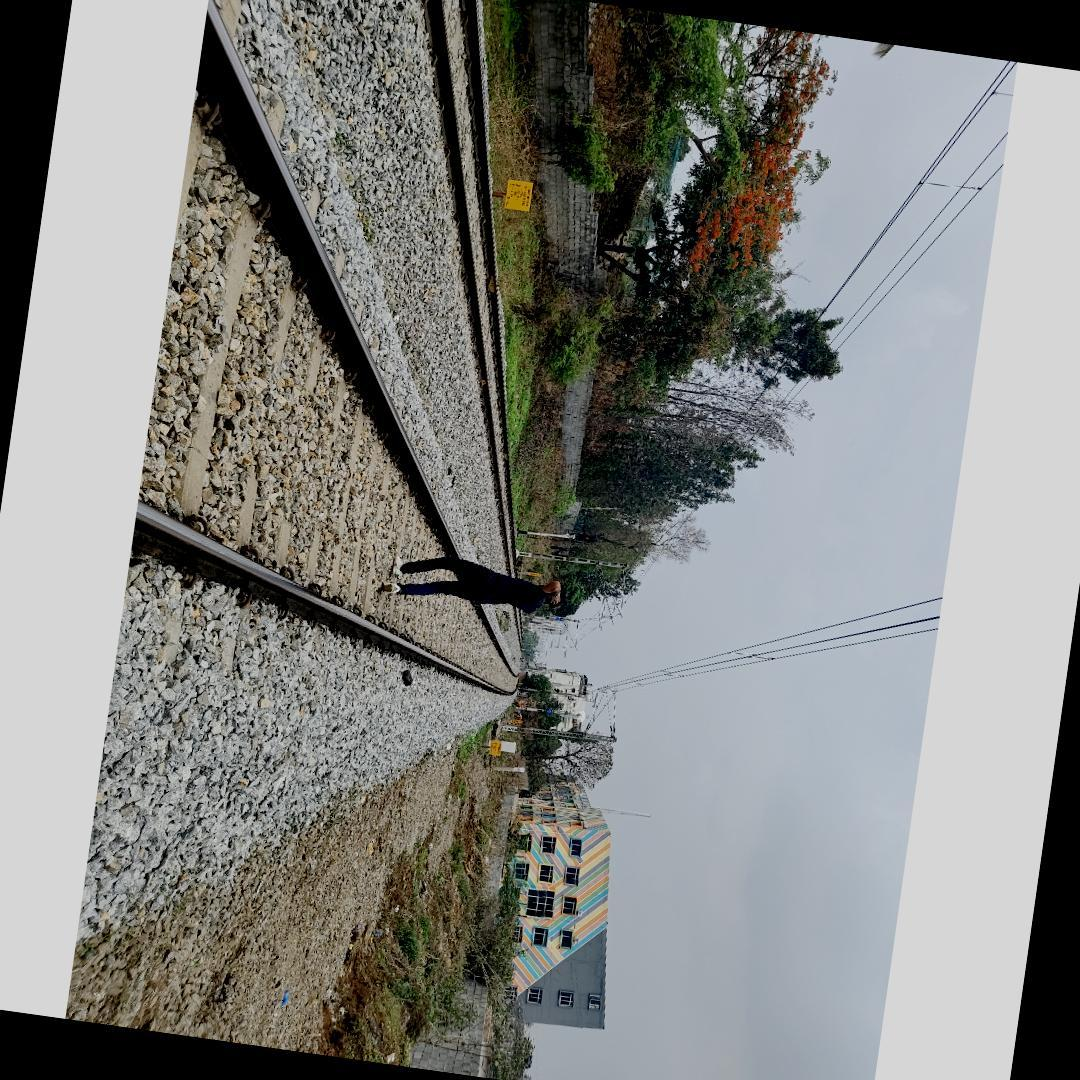standing: (380, 546, 567, 620)
track: (127, 0, 527, 702)
